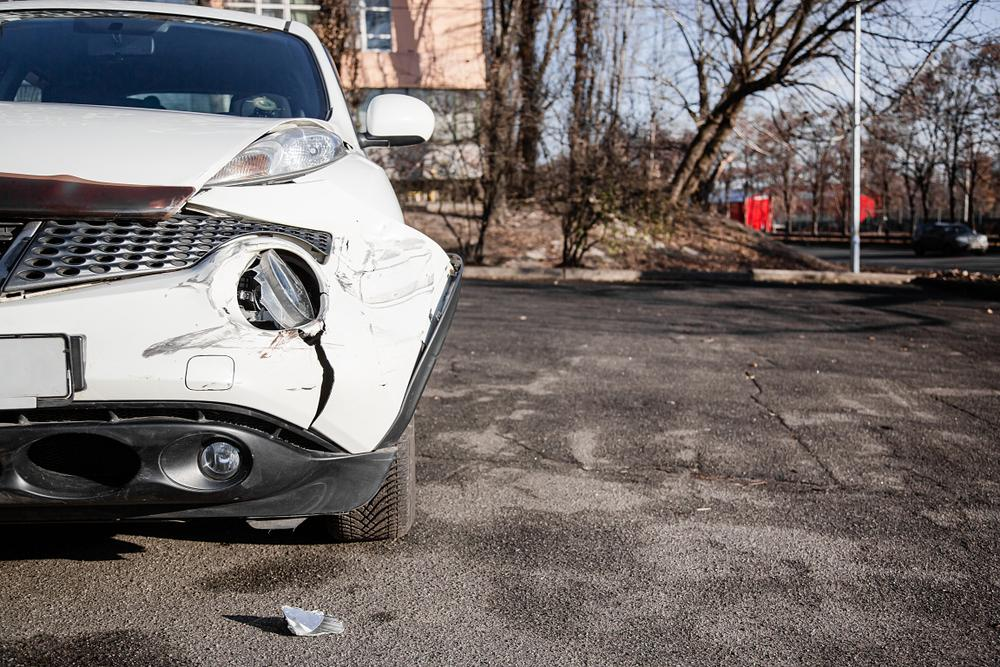crack: (297, 319, 336, 427)
lamp broken: (238, 250, 317, 331)
scratch: (146, 240, 295, 359), (332, 231, 434, 316)
